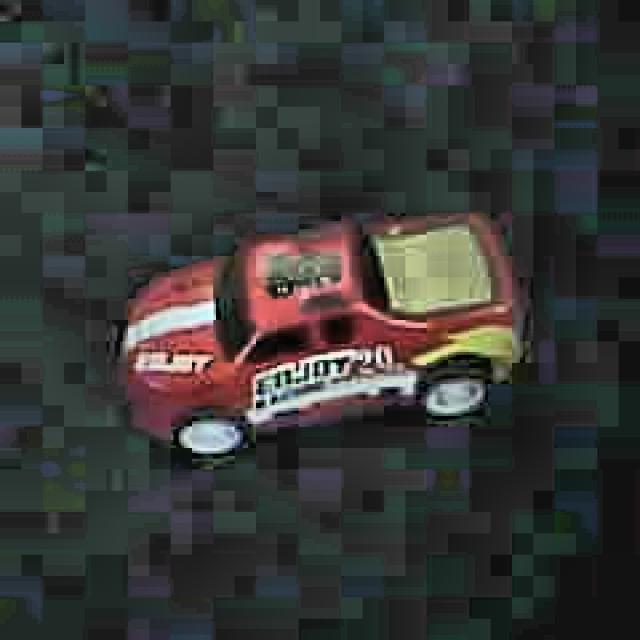car: (103, 198, 530, 476)
